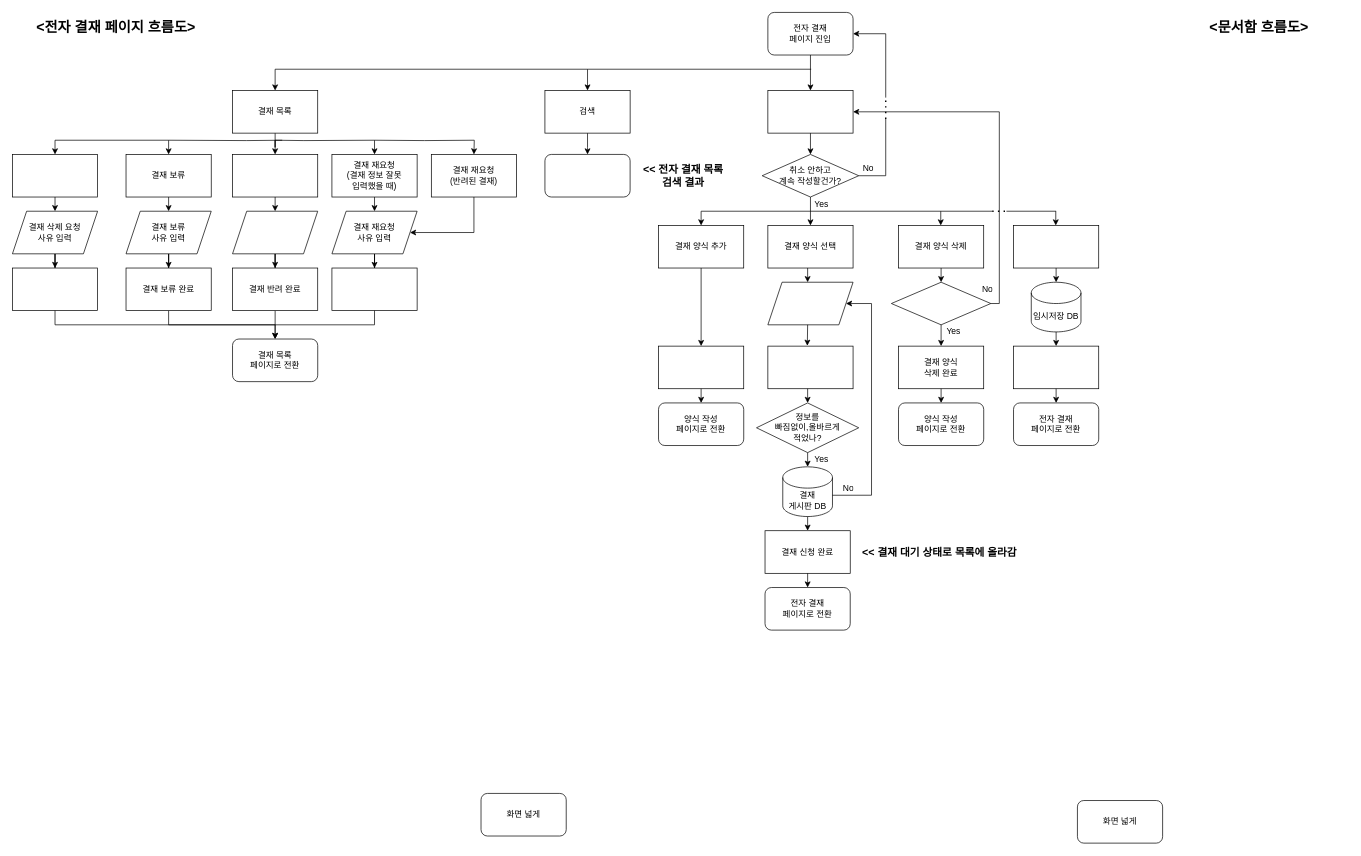
Some shapes in this 1361 by 856 pixel diagram are drawn without their labels. The centre of each missing label's shape, as x and y in pixels:
검색 결과 노출 페이지로 전환: pixel 587 175
결재 반려: pixel 275 175
결재 반려 사유 입력: pixel 275 232
결재 삭제 요청: pixel 55 175
결재 삭제 요청 완료: pixel 55 289
결재 신청: pixel 810 367
결재 양식 추가 완료: pixel 701 367
결재 재요청 완료: pixel 374 289
결재 정보 입력: pixel 810 303
양식 작성: pixel 810 111
임시 저장: pixel 1056 246
임시 저장 완료: pixel 1056 367
정말 삭제할겁니까?: pixel 941 303
